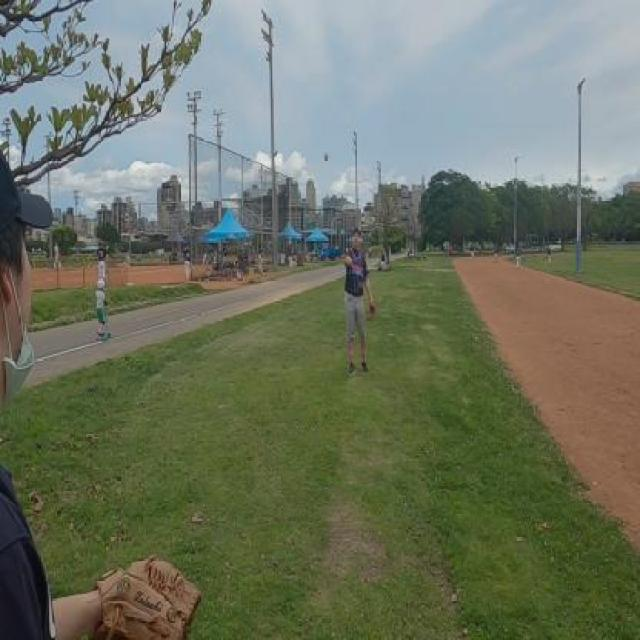baseball: (324, 152, 328, 160)
